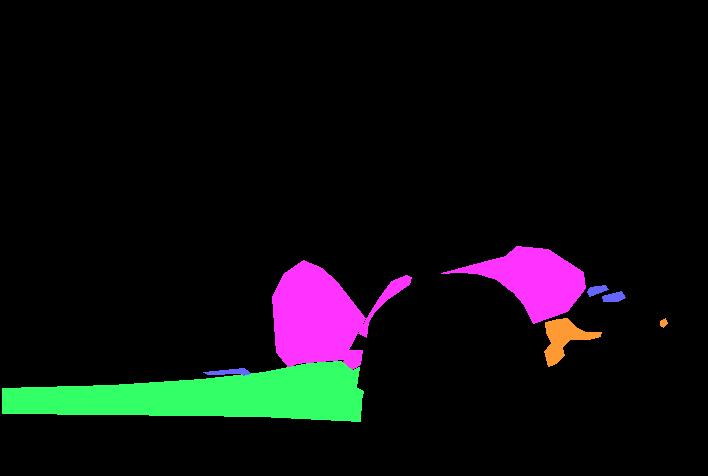Broken part: (2, 361, 363, 421)
Dent: (272, 260, 365, 368), (441, 246, 583, 291), (512, 272, 585, 323), (358, 275, 411, 337), (343, 350, 362, 369)
Paint chip: (544, 318, 601, 366), (660, 318, 667, 327)
Scratch: (203, 368, 250, 375), (587, 285, 608, 296), (602, 291, 625, 301)
